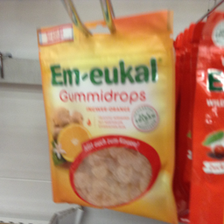candy: (36, 25, 173, 217)
